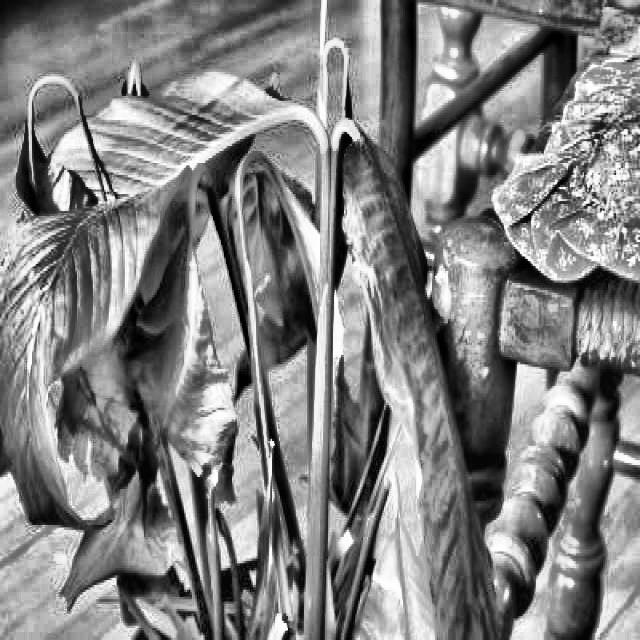plants: (0, 5, 490, 638), (328, 122, 488, 638), (52, 360, 286, 638)
